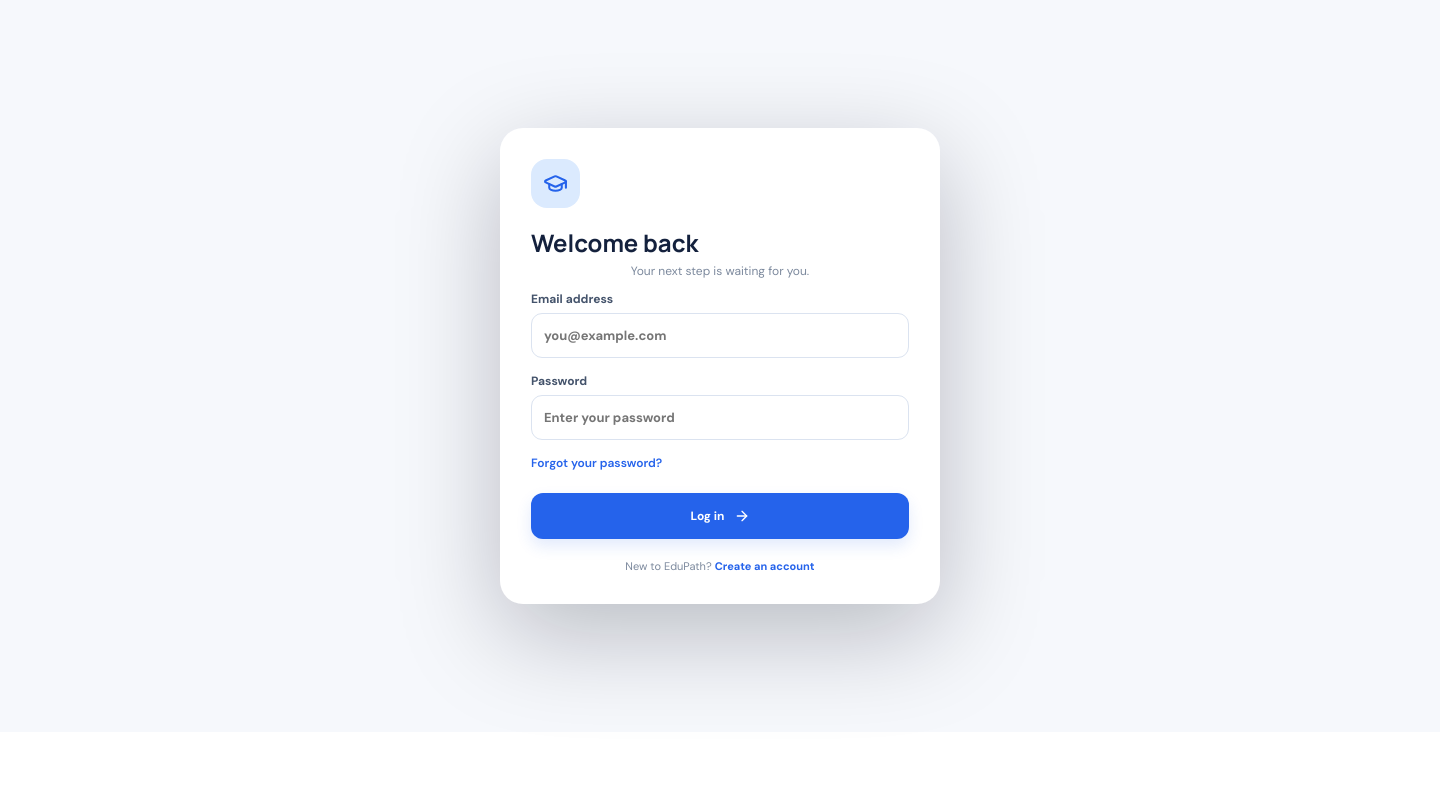
login › offers to resend the confirmation email when the address is unconfirmed
The image size is (1440, 810).
Step 1. Type "a@b.et" into the field labelled "Email address" → (720, 336), box x1=531 y1=313 x2=909 y2=358
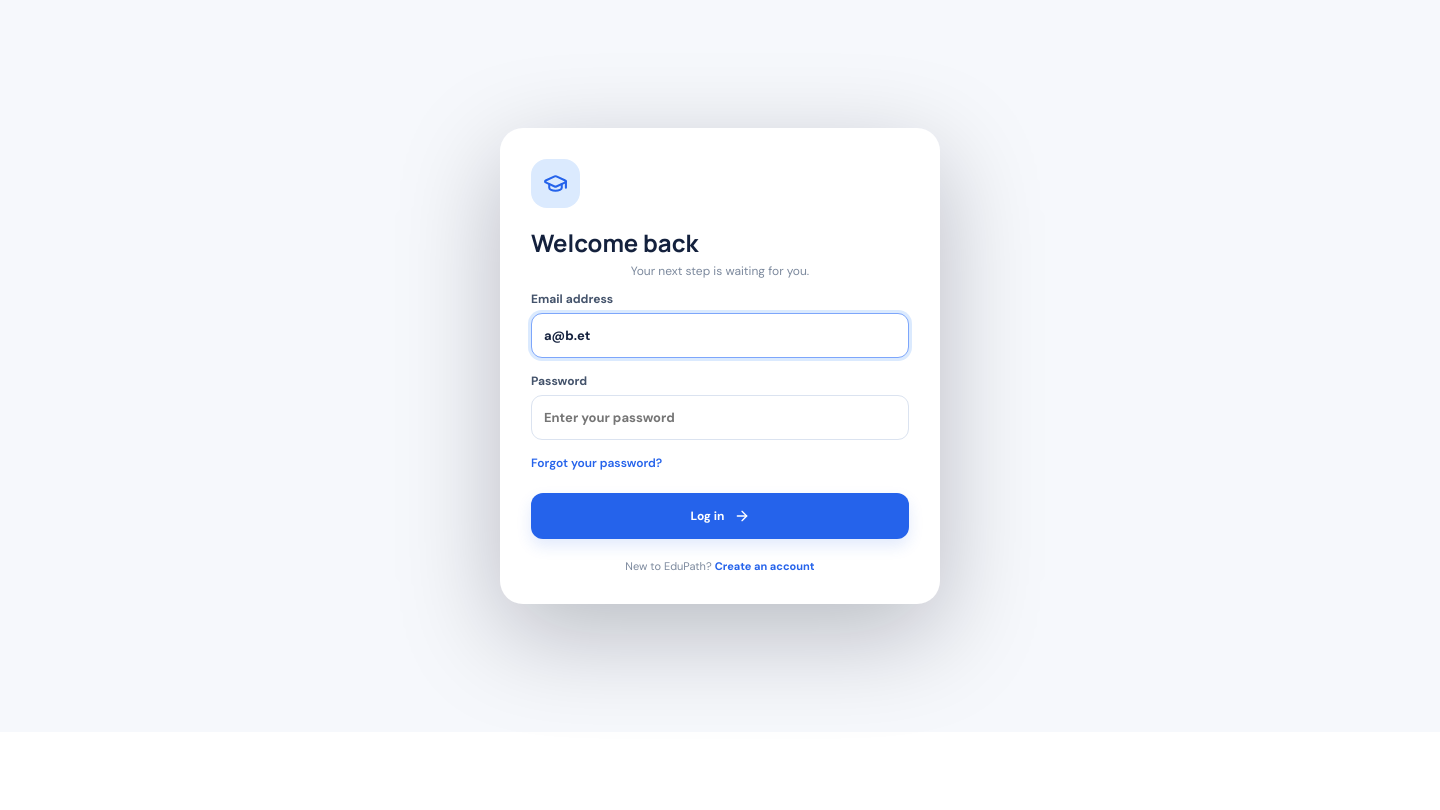
Step 2. Type "whatever1" into the password field labelled "Password" → (720, 418), box x1=531 y1=395 x2=909 y2=440
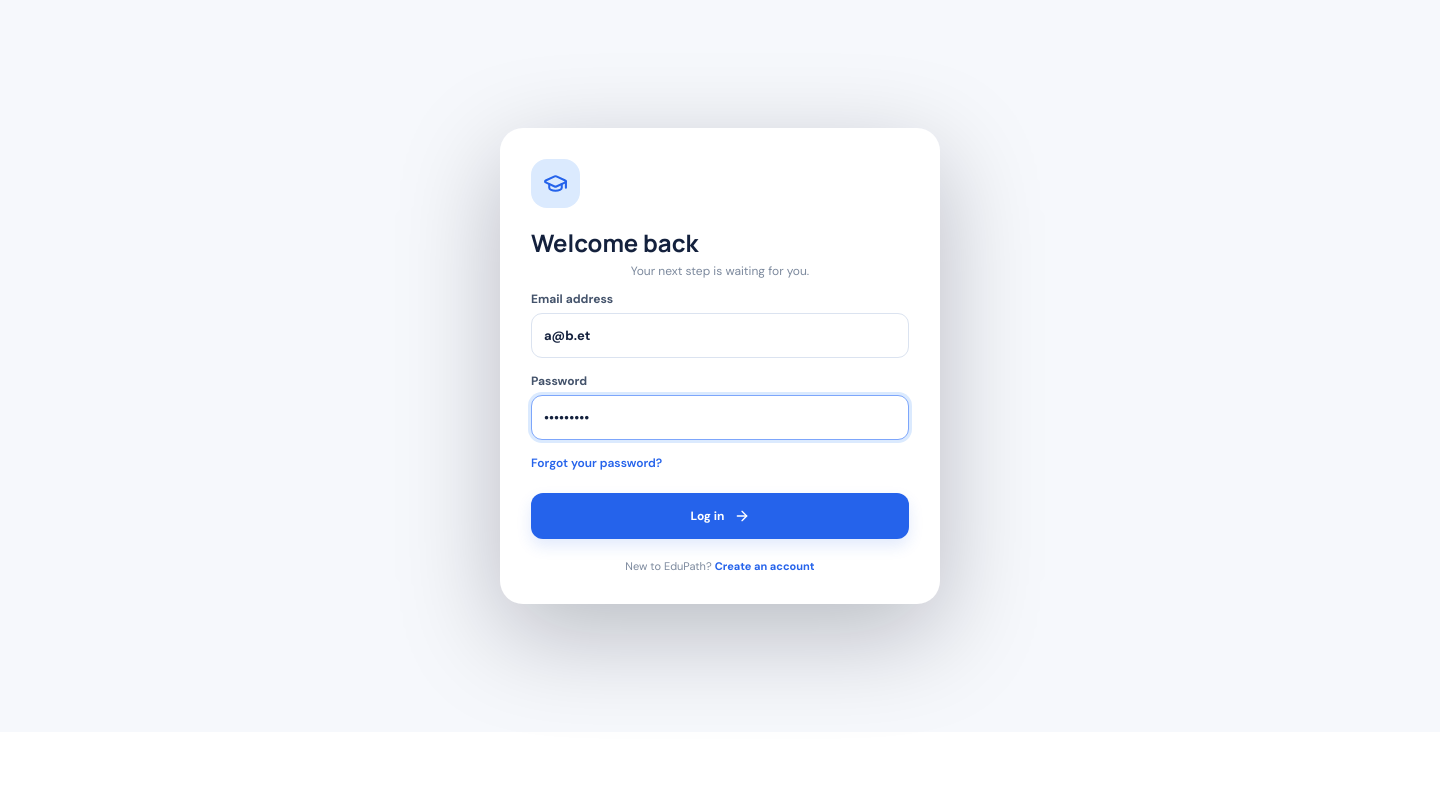
Step 3. Click the button "Log in" → (720, 516), box x1=531 y1=493 x2=909 y2=539
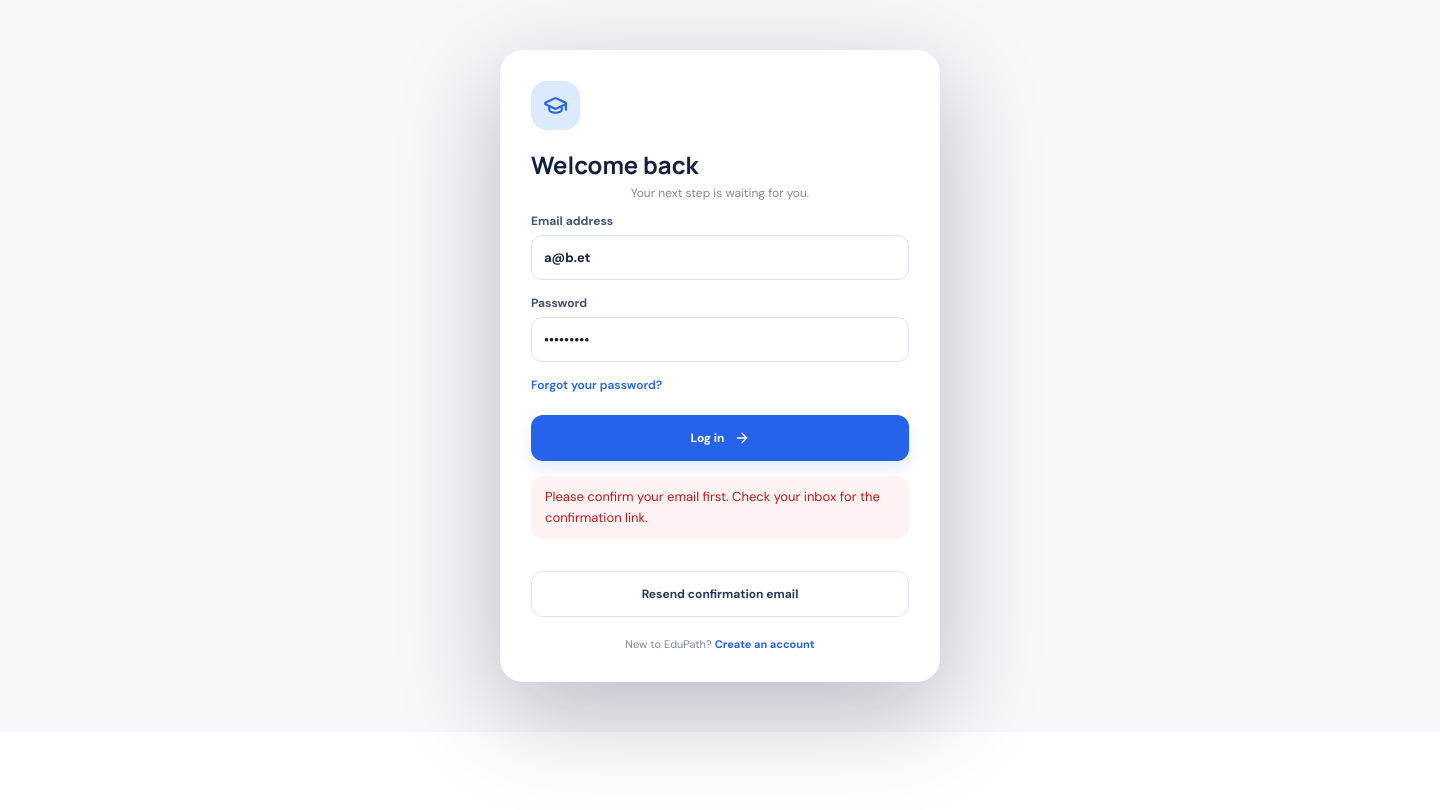
Result: the button "Resend confirmation email" is shown at x1=531 y1=571 x2=909 y2=617
